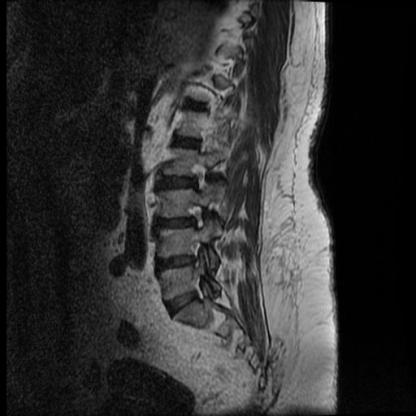Degenerative Disc Diseaserotation: (160, 253, 195, 273)
Disc Bulgerotation: (164, 290, 203, 312), (160, 174, 197, 194), (160, 253, 195, 273), (161, 216, 195, 231), (172, 134, 199, 151)
